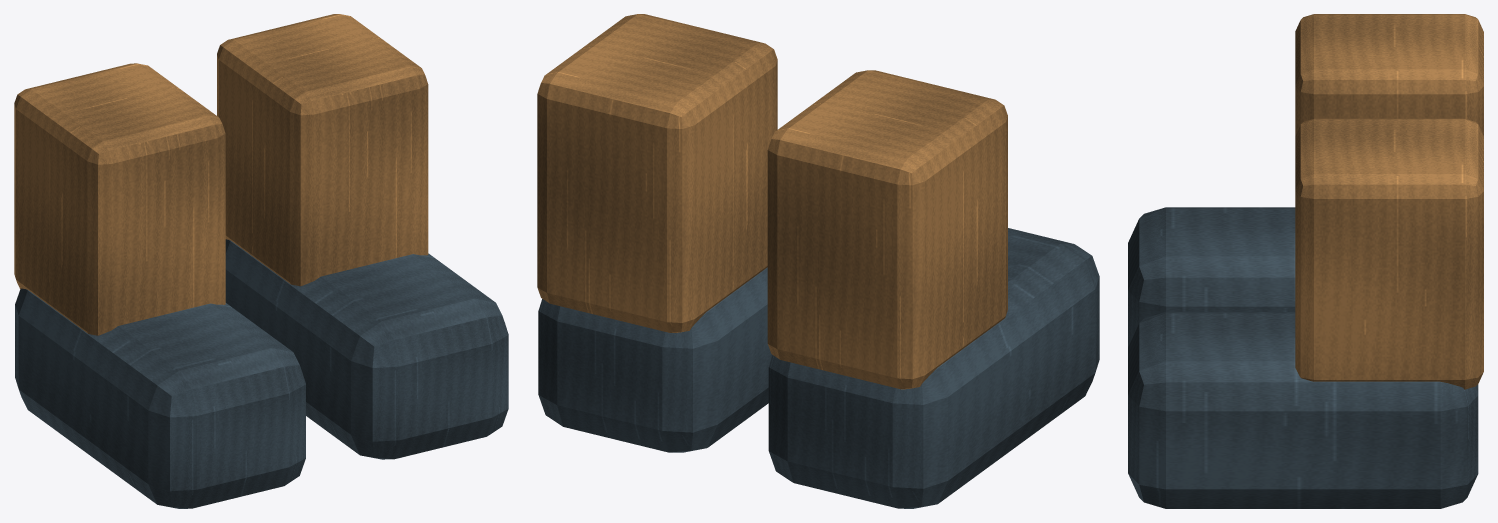
File: boots.glb
3 views of the same model, side by side, from view 1: azimuth 30°, elevation 25°; view 2: azimuth 150°, elevation 25°; view 3: azimuth 270°, elevation 25° (orthographic). The views are drawn at different scales.
Visible parts, largest first — view 1: boots; view 2: boots; view 3: boots.
Boxes of the visible parts, box(x1,y1,x2,y2) form: boots: box(14, 14, 508, 508); boots: box(537, 14, 1099, 508); boots: box(1128, 14, 1483, 508).
Size of the model in its own units: 0.81 by 0.69 by 0.66.
Materials: 2 (2 with a texture image).
